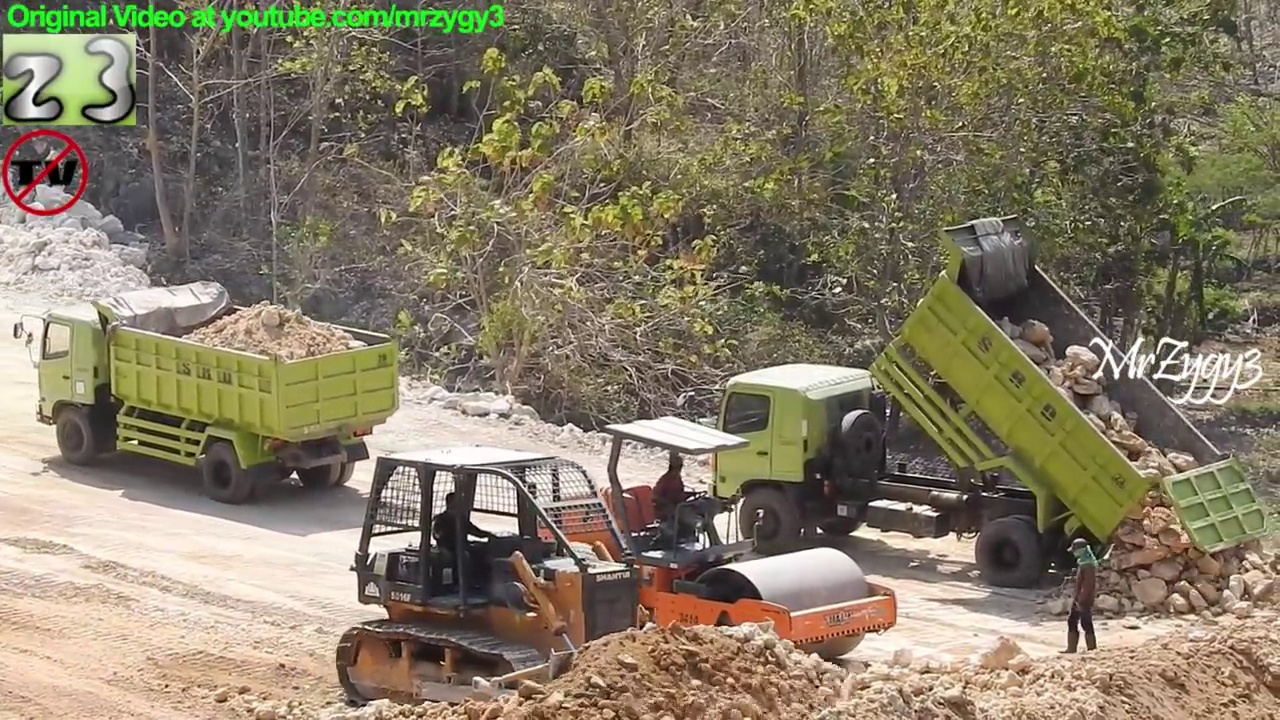bulldozer: (331, 437, 782, 720)
compactor: (509, 410, 903, 679)
truck: (686, 207, 1274, 595), (10, 275, 406, 509)
